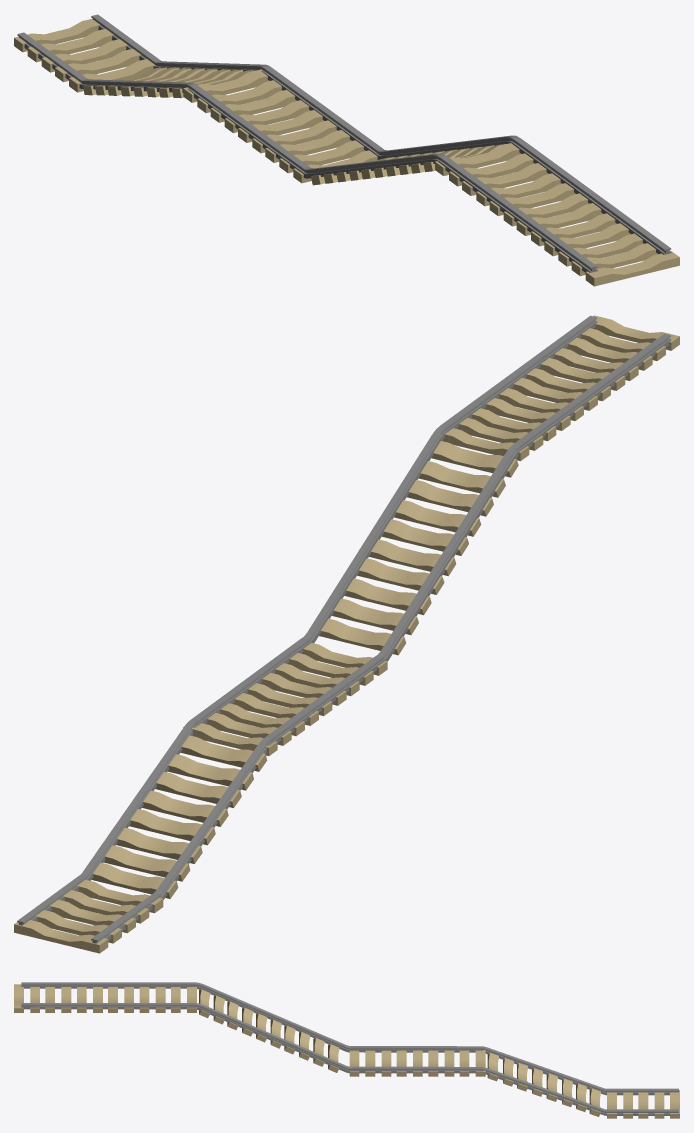
Rendered from Down_Flat_railway.fbx.
The picture shows the model from 3 angles, top to bottom: view 1: azimuth 30°, elevation 25°; view 2: azimuth 150°, elevation 25°; view 3: azimuth 270°, elevation 25°; orthographic projection. The views are drawn at different scales.
Parts seen in each view (by area): view 1: Down_Flat_railwayB, Down_Flat_railwayA; view 2: Down_Flat_railwayB, Down_Flat_railwayA; view 3: Down_Flat_railwayB, Down_Flat_railwayA.
Boxes of the visible parts, x1,y1,x2,y2 form: Down_Flat_railwayB: (14,18,679,286); Down_Flat_railwayA: (17,14,671,272); Down_Flat_railwayB: (14,315,679,953); Down_Flat_railwayA: (17,315,671,943); Down_Flat_railwayB: (14,984,679,1118); Down_Flat_railwayA: (21,982,678,1115).
Bounding box in the file's own units: 2.44 × 5.36 × 28.55.
